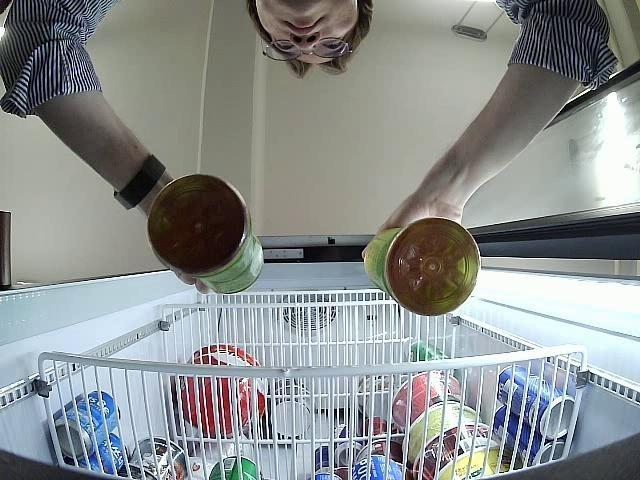19_17cha: (148, 172, 266, 296), (366, 216, 482, 316)
